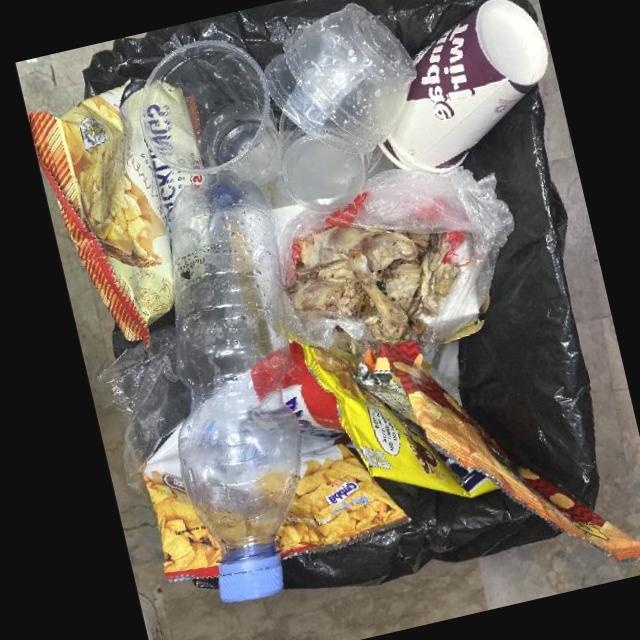bao_bi_thuc_pham: (141, 339, 409, 583), (353, 339, 640, 561), (27, 75, 205, 345), (304, 345, 500, 497)
carton: (377, 0, 548, 174)
chai_nhua_pet: (166, 170, 301, 600)
hop_nhua: (264, 1, 416, 151), (278, 115, 381, 214)
thuc_an_thua: (287, 225, 460, 344)
tui_ni_long: (100, 322, 191, 498)
